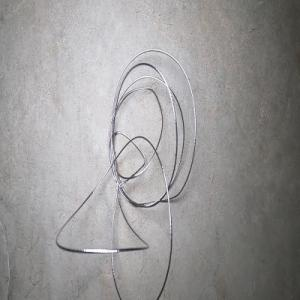Wire: (55, 48, 196, 300)
